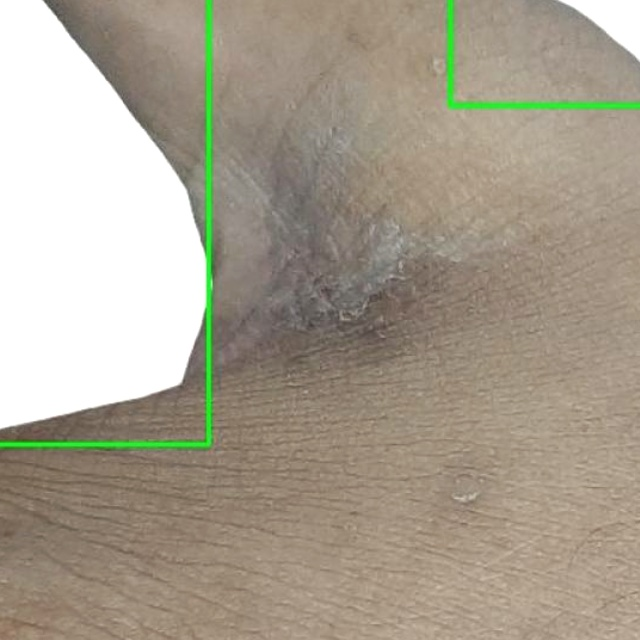Scabies: (0, 0, 208, 444)
